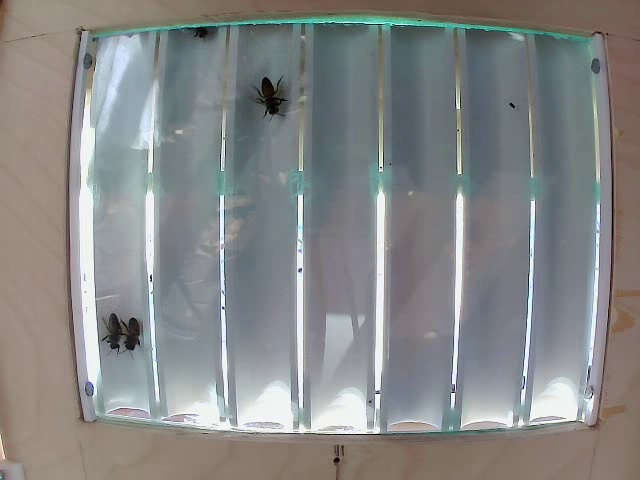bee: (118, 312, 154, 361), (256, 73, 288, 124), (94, 311, 116, 347)
